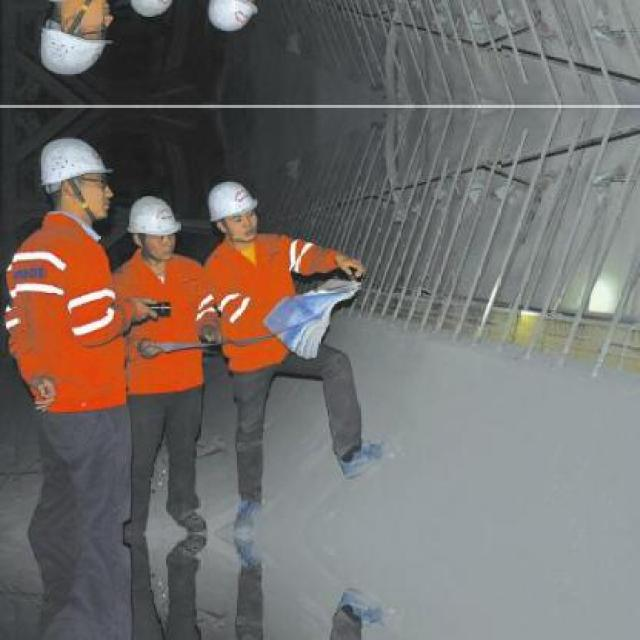helmet: (39, 132, 115, 221), (38, 0, 116, 82), (203, 176, 262, 248), (125, 193, 183, 262), (203, 0, 263, 37), (124, 0, 184, 20)
